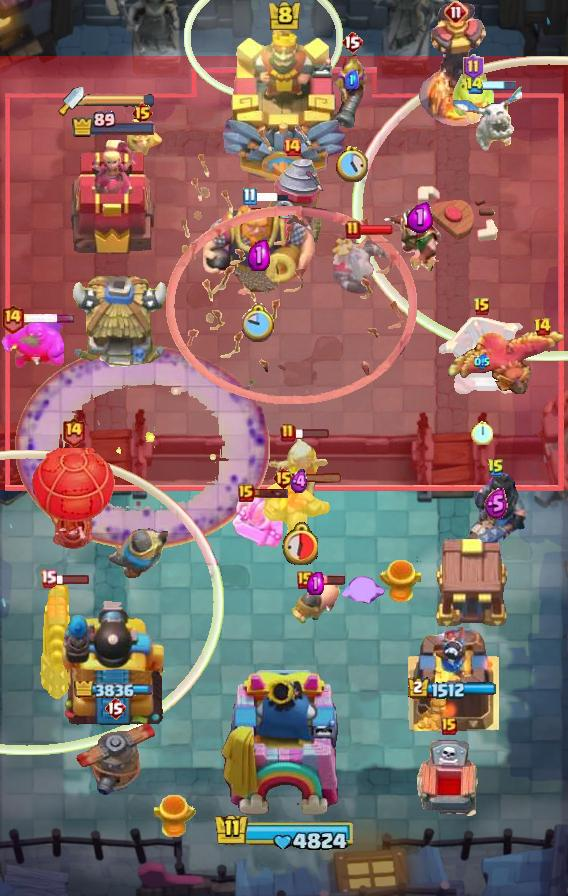bar: (70, 138, 158, 256)
bat: (340, 574, 388, 604)
bat-evolution: (120, 115, 164, 155)
bomb: (433, 535, 513, 629)
bomb-tower: (331, 44, 373, 132)
cannon-cart: (31, 448, 115, 550)
clock: (210, 812, 358, 854)
dark-prince: (70, 710, 160, 796)
electro-dragon: (417, 0, 495, 126)
electro-spirit: (407, 203, 433, 234), (484, 489, 508, 519), (248, 240, 270, 271), (290, 469, 310, 494), (307, 573, 325, 596), (345, 71, 359, 90), (474, 354, 490, 370)
electro-wizard: (450, 74, 496, 126)
elixir: (281, 523, 319, 566), (242, 302, 276, 342), (336, 146, 368, 182), (471, 420, 493, 445)
elixir-golem-mid: (414, 739, 484, 825)
emote: (23, 313, 76, 324), (292, 472, 344, 483), (251, 487, 288, 499), (481, 80, 517, 92), (254, 191, 290, 203), (358, 224, 394, 236), (294, 427, 330, 439), (54, 573, 90, 585), (310, 574, 346, 586)
executioner: (289, 580, 341, 624)
firecracker: (108, 529, 168, 580)
giant-skeleton: (201, 198, 317, 298)
goblin-giant: (230, 495, 286, 551)
golem: (34, 584, 82, 702)
inferno-dragon: (464, 471, 528, 554)
king-tower: (220, 21, 348, 181), (219, 670, 349, 826)
king-tower-bar: (84, 93, 156, 107)
lava-pup: (438, 316, 526, 398)
magic-archer: (262, 156, 322, 250)
mini-pekka: (451, 86, 527, 158)
mortar-evolution: (330, 233, 396, 299)
mother-witch: (438, 328, 568, 402)
poison: (255, 436, 343, 520)
prince: (68, 276, 170, 372)
queen-tower: (407, 627, 499, 731)
rocket: (14, 345, 270, 549)
selected: (71, 111, 157, 138), (408, 676, 498, 700), (74, 681, 154, 698)
skeleton-barrel: (166, 124, 419, 404)
skeleton-king: (381, 207, 459, 271)
text: (62, 417, 87, 448), (0, 303, 24, 334), (444, 0, 468, 24), (130, 101, 154, 125), (272, 466, 296, 490), (463, 54, 485, 80), (341, 30, 363, 54), (104, 696, 126, 720), (282, 137, 302, 157), (532, 317, 551, 337), (464, 77, 484, 95), (473, 297, 491, 317), (487, 458, 505, 478), (39, 568, 57, 587), (345, 220, 361, 240), (280, 423, 296, 443), (238, 484, 254, 502), (297, 571, 313, 589), (441, 717, 457, 735), (243, 187, 257, 205)
tornado: (0, 320, 64, 370)
tower-bar: (58, 595, 170, 731)
valkyrie-evolution: (261, 481, 333, 553)
